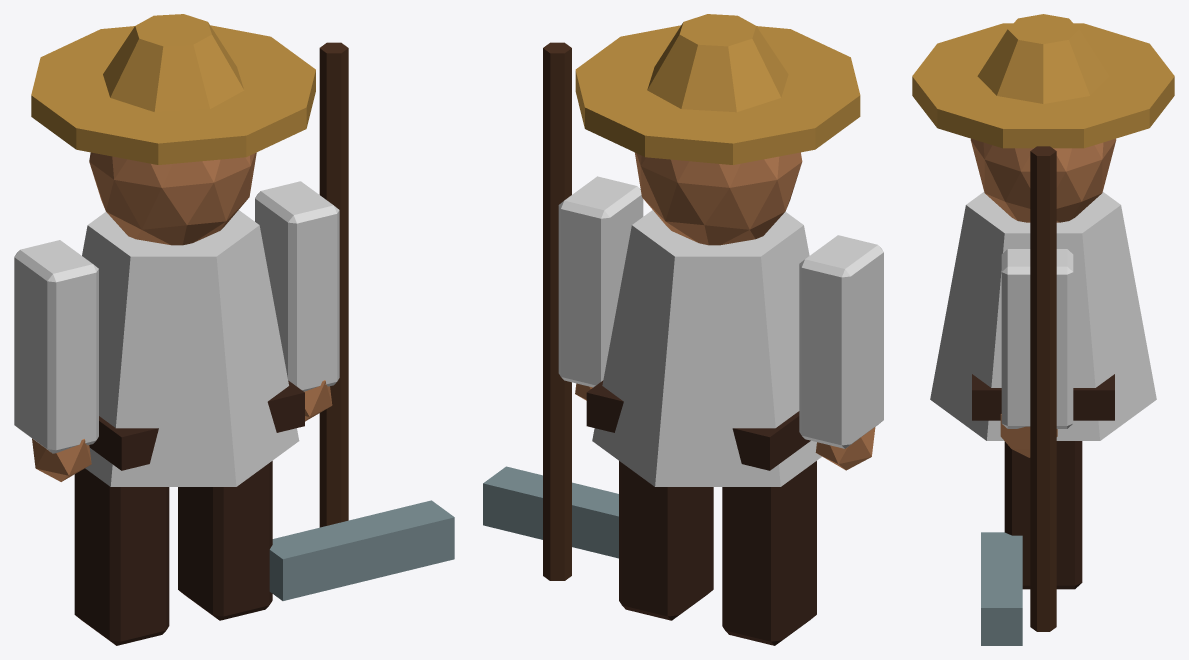
The model's file is farmer.glb.
The picture shows the model from 3 angles, left to right: view 1: azimuth 30°, elevation 25°; view 2: azimuth 150°, elevation 25°; view 3: azimuth 270°, elevation 25°; orthographic projection. The views are drawn at different scales.
Parts seen in each view (by area): view 1: farmer; view 2: farmer; view 3: farmer.
Part boxes in pixels (x1,y1,x2,y2): farmer: (14, 14, 454, 645); farmer: (483, 14, 883, 645); farmer: (912, 14, 1174, 645).
Size of the model in its own units: 0.3425 by 0.4875 by 0.22.
